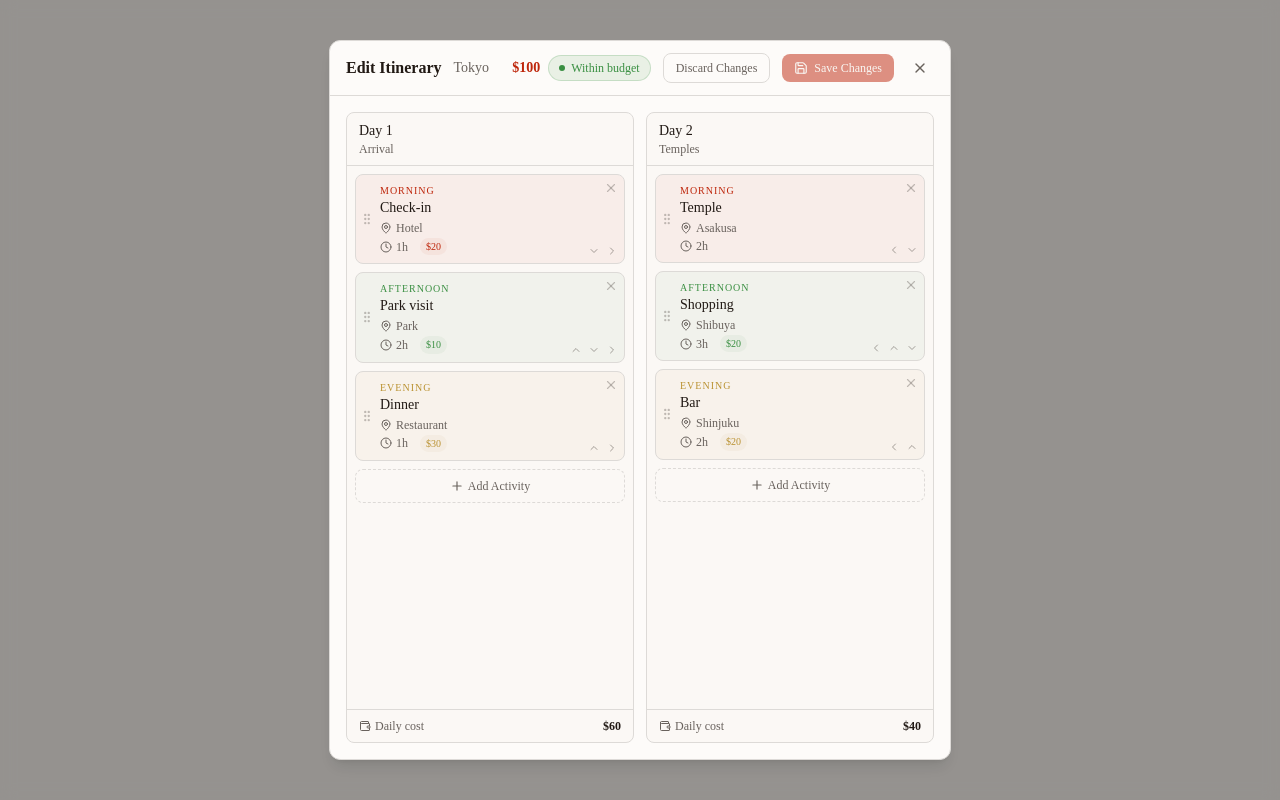
Test: ItineraryEditor › shows AddActivityForm when Add Activity is clicked
This screenshot has width=1280, height=800.
What coordinates should you click on to do the following:
click the button "Add Activity" below "Arrival"
I would click on:
 (490, 486)
Its box is [355,469,625,503].
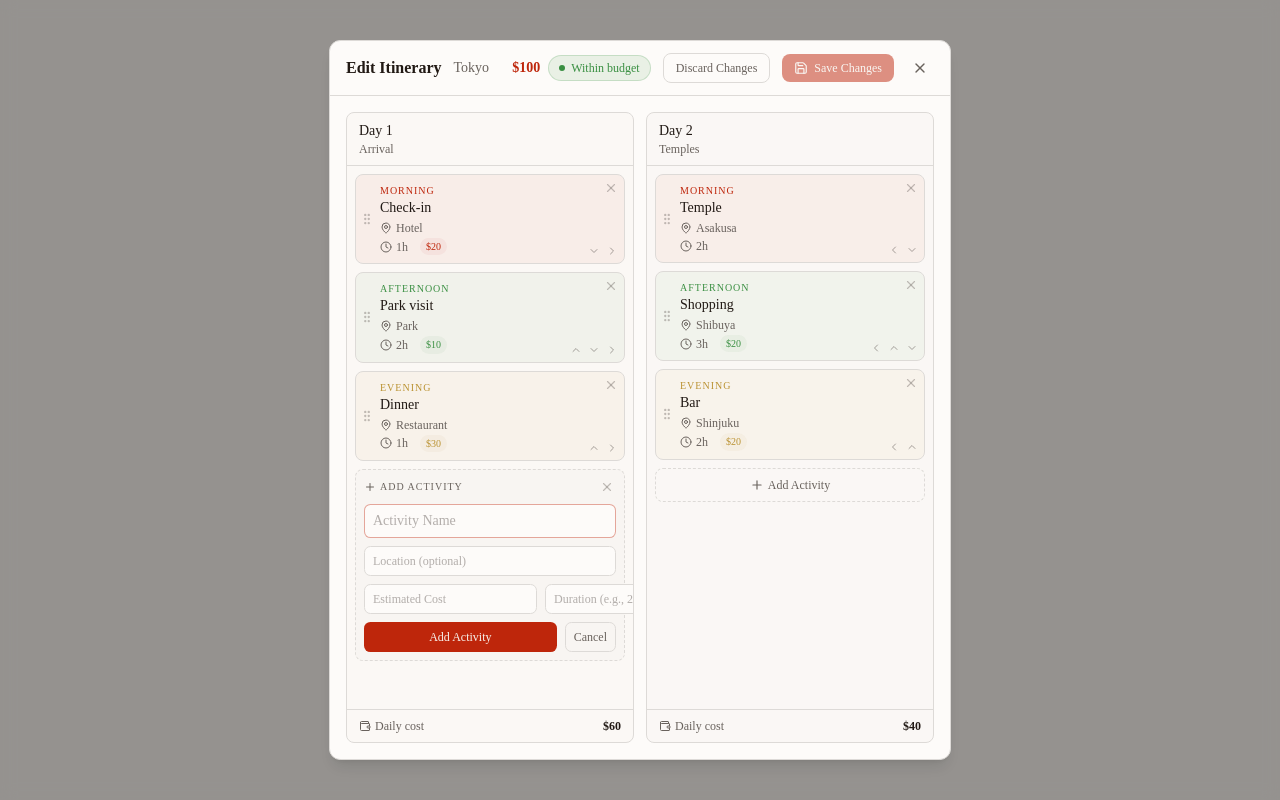
Expected: the field with placeholder "Activity Name" is shown, [364,504,616,538]
